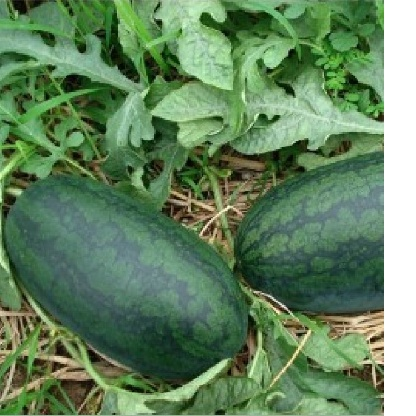duahau: (2, 167, 244, 394), (223, 138, 382, 317)
